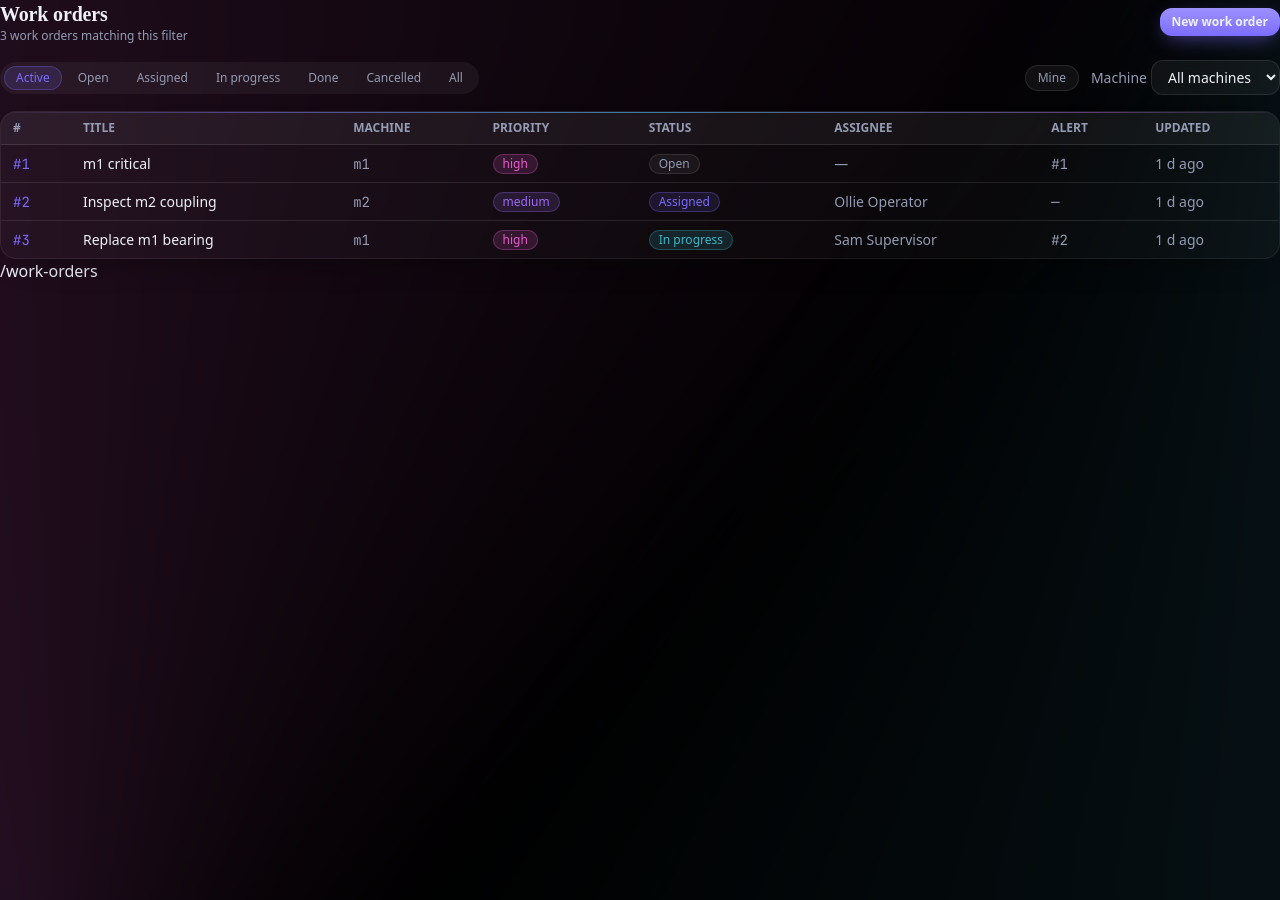
it: WorkOrdersPage › opens the drawer on a row click, with the id in the path, and closes back to the list
Click the text "Replace m1 bearing" at {"x": 206, "y": 239}, box [71,220,341,258]
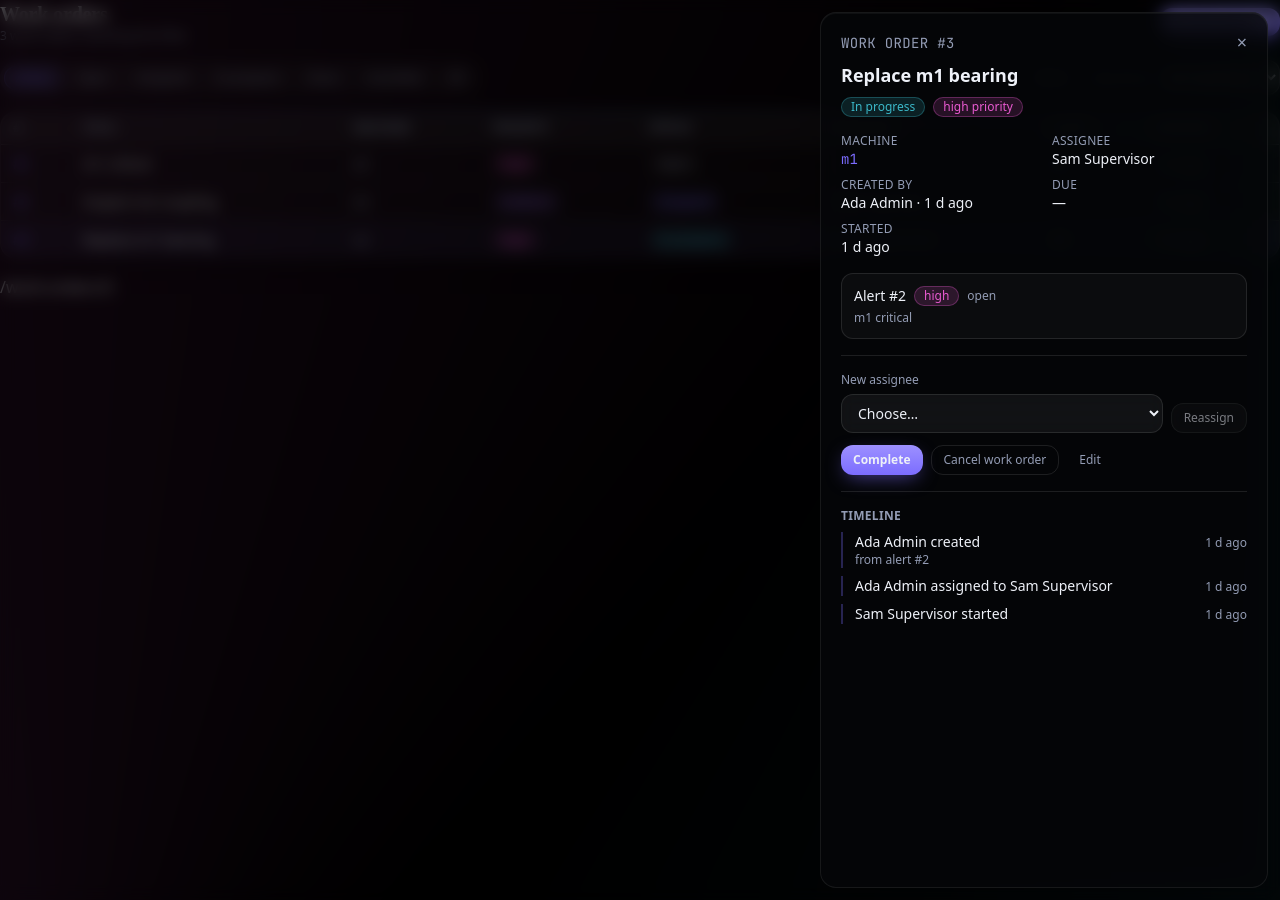
Now the text with test id "location" reads "/work-orders/3", box [0,276,113,298]
Now the dialog "Work order #3" is shown, box [820,12,1268,888]
Click the button named "close" at {"x": 1242, "y": 42}, box [1237,33,1247,51]
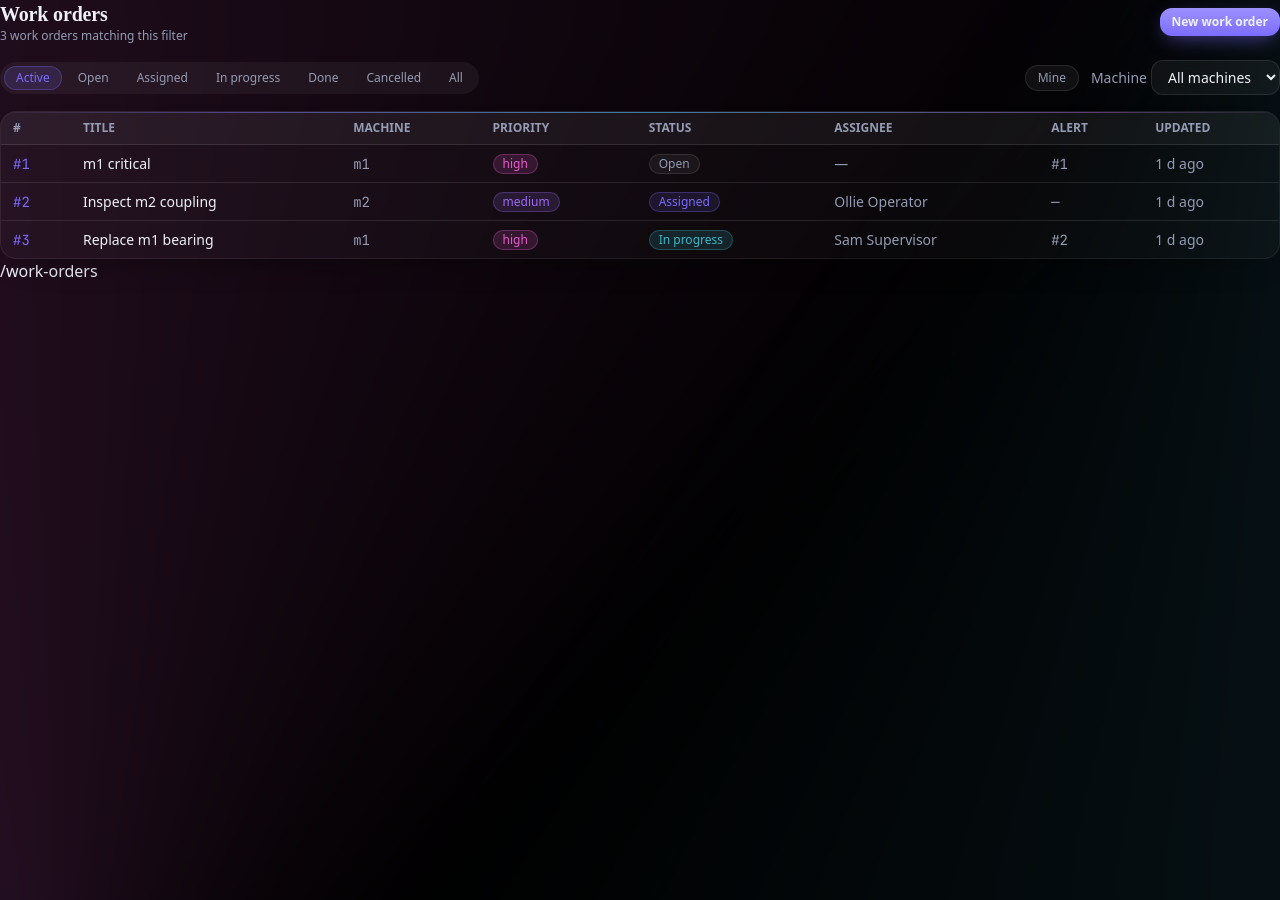
Now the dialog is gone
Now the text with test id "location" reads "/work-orders", box [0,260,98,282]
